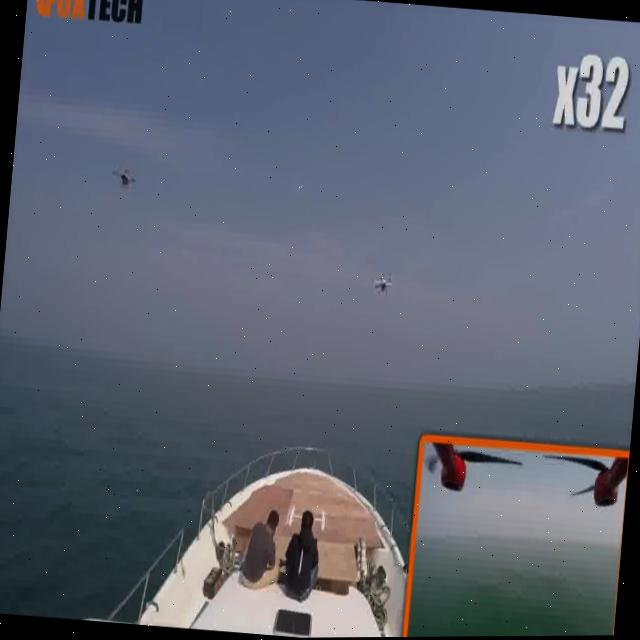drone: (109, 155, 143, 197), (368, 263, 394, 305)
